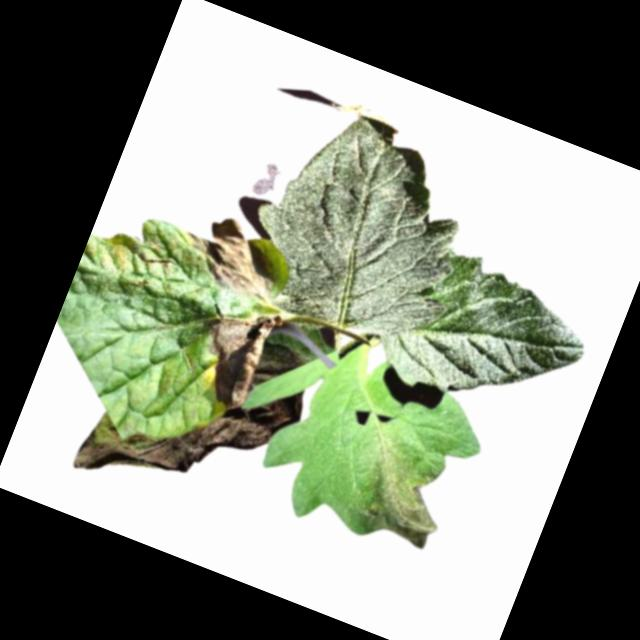Late_blight: (73, 321, 310, 539), (178, 292, 285, 426), (173, 204, 293, 309), (345, 446, 459, 554), (243, 336, 312, 410)
healthy: (224, 95, 498, 375), (368, 232, 604, 444)
